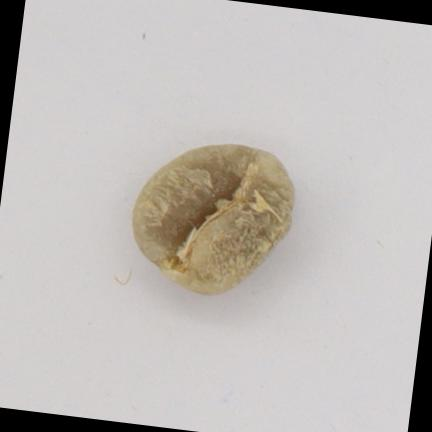husk: (134, 144, 294, 292)
